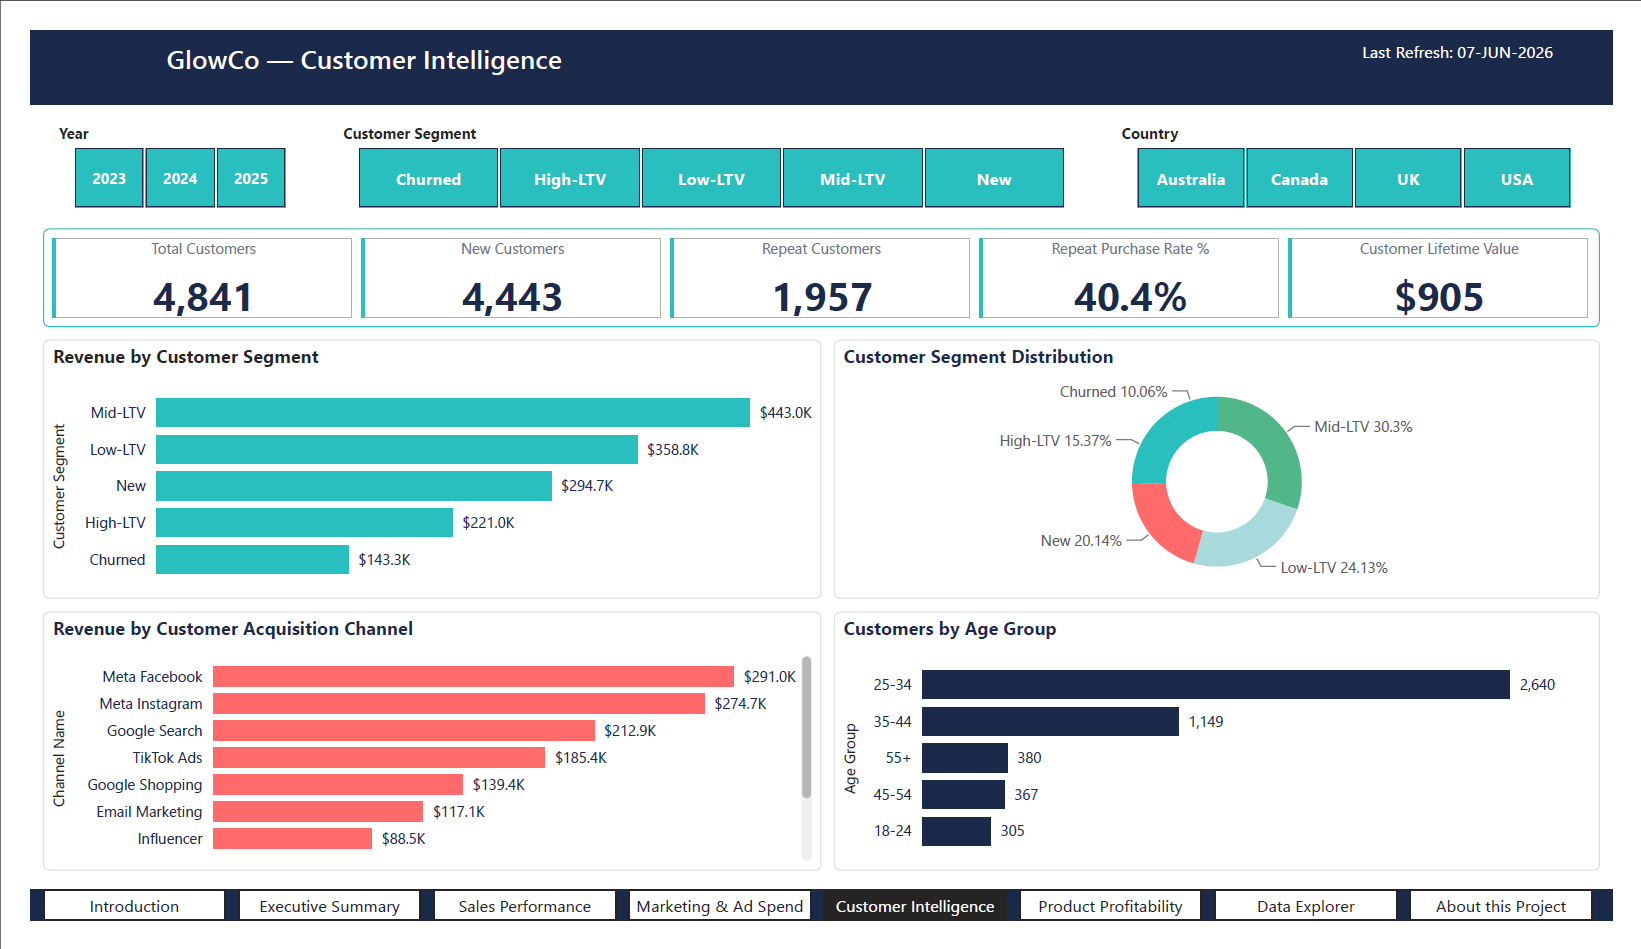

This screenshot's page, from the dashboard's own definition file:
{"tool":"powerbi","page":{"name":"Customer Intelligence","canvas":[1280,720],"ordinal":4},"visuals":[{"type":"shape","box":[0,0,1280,60],"z":0},{"type":"textbox","box":[20,3.3,500,40],"z":1000},{"type":"textbox","box":[1050,3.3,210,40],"z":2000},{"type":"slicer","fields":{"Values":["dim_Date.Year"]},"box":[10,70,220,80],"z":3000},{"type":"slicer","fields":{"Values":["dim_Customers.CustomerSegment"]},"box":[240,70,620,80],"z":4000},{"type":"slicer","fields":{"Values":["dim_Customers.Country"]},"box":[870,70,400,80],"z":5000},{"type":"cardVisual","fields":{"Data":["_Measures.Total Customers","_Measures.New Customers","_Measures.Repeat Customers","_Measures.Repeat Purchase Rate %","_Measures.Customer Lifetime Value"]},"box":[10,160.5,1260.1,80],"z":6000},{"type":"clusteredBarChart","title":"Revenue by Customer Segment","fields":{"Y":["_Measures.Total Revenue"],"Category":["dim_Customers.CustomerSegment"]},"box":[10,250,630,210],"z":7000},{"type":"donutChart","title":"Customer Segment Distribution","fields":{"Category":["dim_Customers.CustomerSegment"],"Y":["_Measures.Total Customers"]},"box":[650,250,620,210],"z":8000},{"type":"clusteredBarChart","title":"Revenue by Customer Acquisition Channel","fields":{"Category":["dim_Channels.ChannelName"],"Y":["_Measures.Revenue by Acquisition Channel"]},"box":[10,470,630,210],"z":9000},{"type":"clusteredBarChart","title":"Customers by Age Group","fields":{"Category":["dim_Customers.AgeGroup"],"Y":["_Measures.Total Customers"]},"box":[650,470,620,210],"z":10000},{"type":"shape","box":[0,695,1280,25],"z":11000},{"type":"pageNavigator","box":[10,695,1260,25],"z":12000}]}

Visuals, with their boxes in screenshot pixels (x1, y1, x2, y2), scaled from the page's 1280x720 canvas onto the 1641x949 screenshot:
shape: 0,0,1640,79
textbox: 26,4,667,57
textbox: 1346,4,1615,57
slicer - dim_Date.Year: 13,92,295,198
slicer - dim_Customers.CustomerSegment: 308,92,1103,198
slicer - dim_Customers.Country: 1115,92,1628,198
cardVisual - _Measures.Total Customers x _Measures.New Customers: 13,212,1628,317
"Revenue by Customer Segment" clusteredBarChart: 13,330,820,606
"Customer Segment Distribution" donutChart: 833,330,1628,606
"Revenue by Customer Acquisition Channel" clusteredBarChart: 13,619,820,896
"Customers by Age Group" clusteredBarChart: 833,619,1628,896
shape: 0,916,1640,948
pageNavigator: 13,916,1628,948
